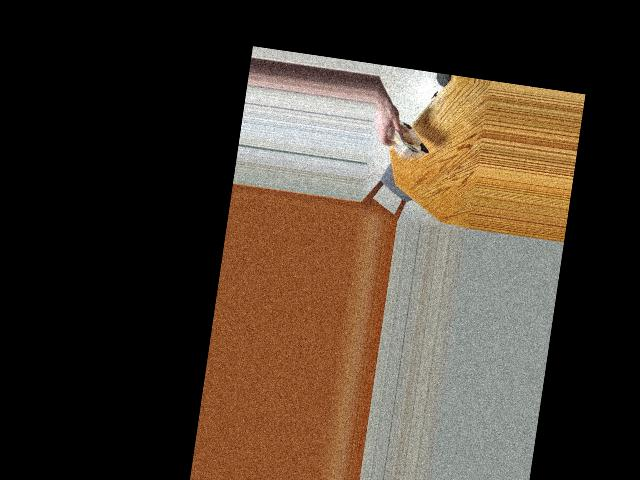cheese: (381, 105, 432, 169)
